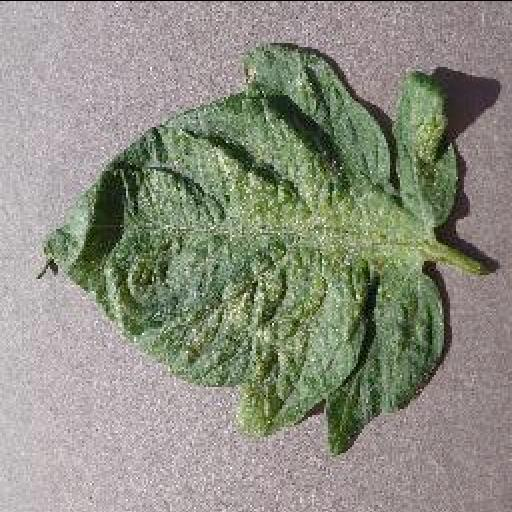disease_tomato: (42, 42, 460, 454)
